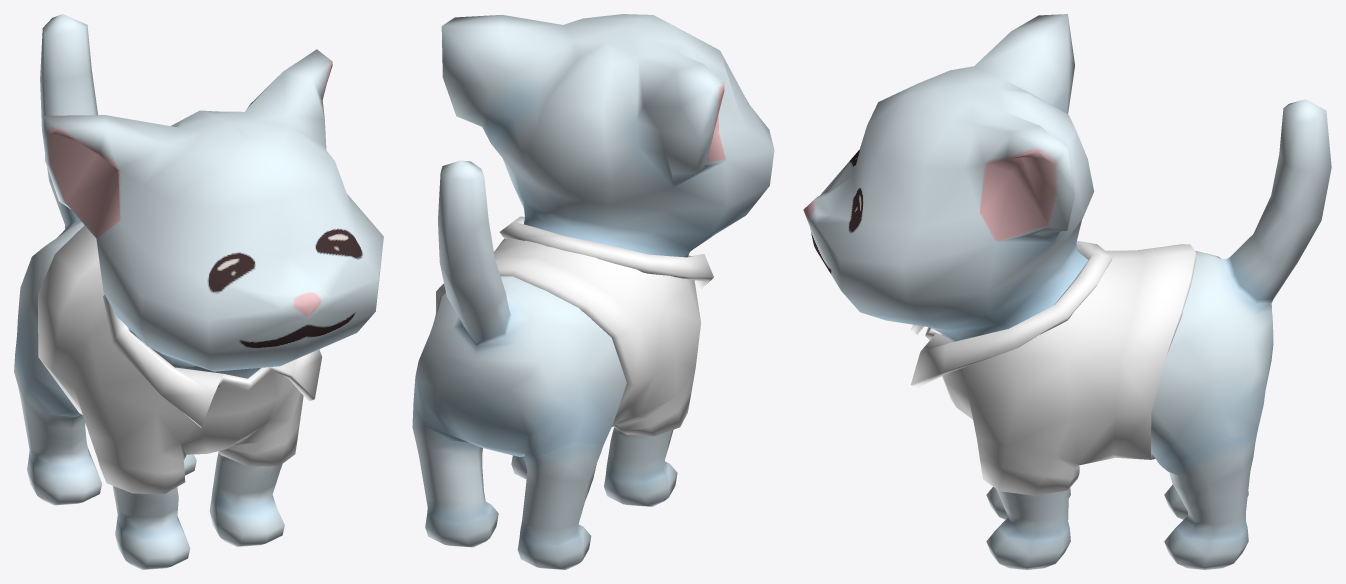
The model's file is Staff Cat05.fbx.
The picture shows the model from 3 angles, left to right: view 1: azimuth 30°, elevation 25°; view 2: azimuth 150°, elevation 25°; view 3: azimuth 270°, elevation 25°; orthographic projection. The views are drawn at different scales.
Parts seen in each view (by area): view 1: Cat_Base004, Staff_Cat_shirt; view 2: Cat_Base004, Staff_Cat_shirt; view 3: Cat_Base004, Staff_Cat_shirt.
Part boxes in pixels (bbox=[...]): Cat_Base004: bbox=[14, 14, 383, 569]; Staff_Cat_shirt: bbox=[38, 225, 321, 493]; Cat_Base004: bbox=[412, 14, 774, 569]; Staff_Cat_shirt: bbox=[436, 216, 713, 436]; Cat_Base004: bbox=[803, 14, 1331, 569]; Staff_Cat_shirt: bbox=[910, 240, 1196, 495].
Bounding box in the file's own units: 1.75 × 2.83 × 2.68.
2 materials, 1 textured.
